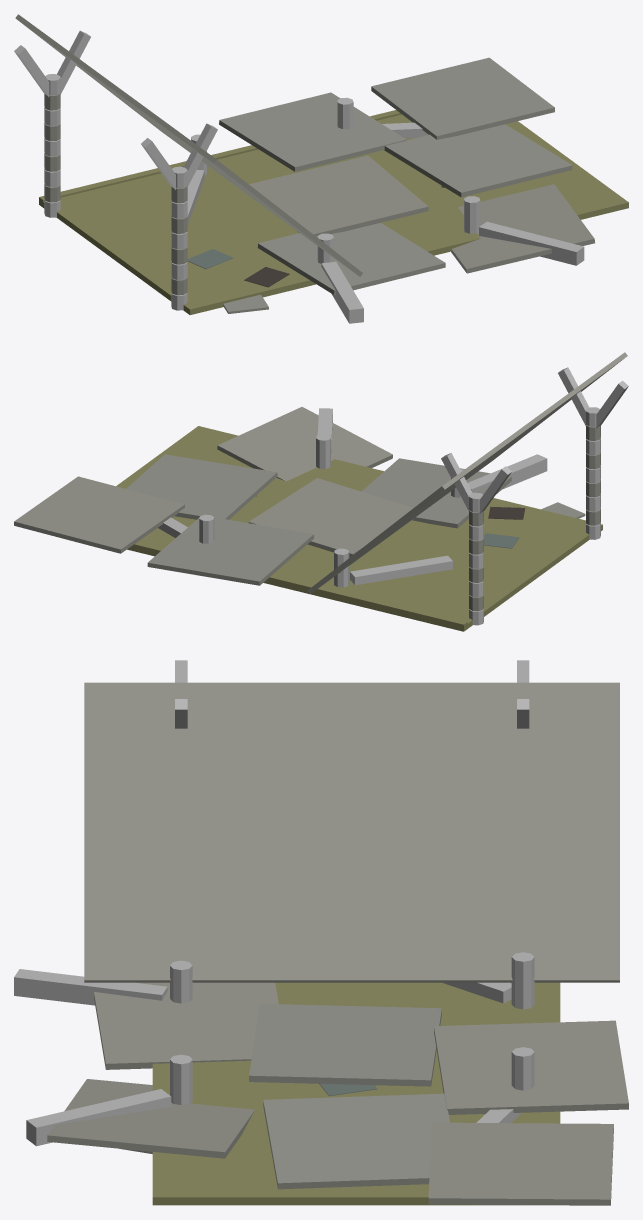
The model's file is SM_MarquesinaBus_v1_Chapas_e2_MuyDanado_LOD0.fbx.
3 views of the same model, one above another, from view 1: azimuth 30°, elevation 25°; view 2: azimuth 150°, elevation 25°; view 3: azimuth 270°, elevation 25° (orthographic). The views are drawn at different scales.
Parts seen in each view (by area): view 1: SM_marquesina_bus_v6_LOD0; view 2: SM_marquesina_bus_v6_LOD0; view 3: SM_marquesina_bus_v6_LOD0.
Boxes of the visible parts, box(x1,y1,x2,y2) form: SM_marquesina_bus_v6_LOD0: box(14, 14, 628, 323); SM_marquesina_bus_v6_LOD0: box(14, 352, 628, 631); SM_marquesina_bus_v6_LOD0: box(14, 660, 628, 1205).
Bounding box in the file's own units: 13.82 × 4.63 × 10.79.
